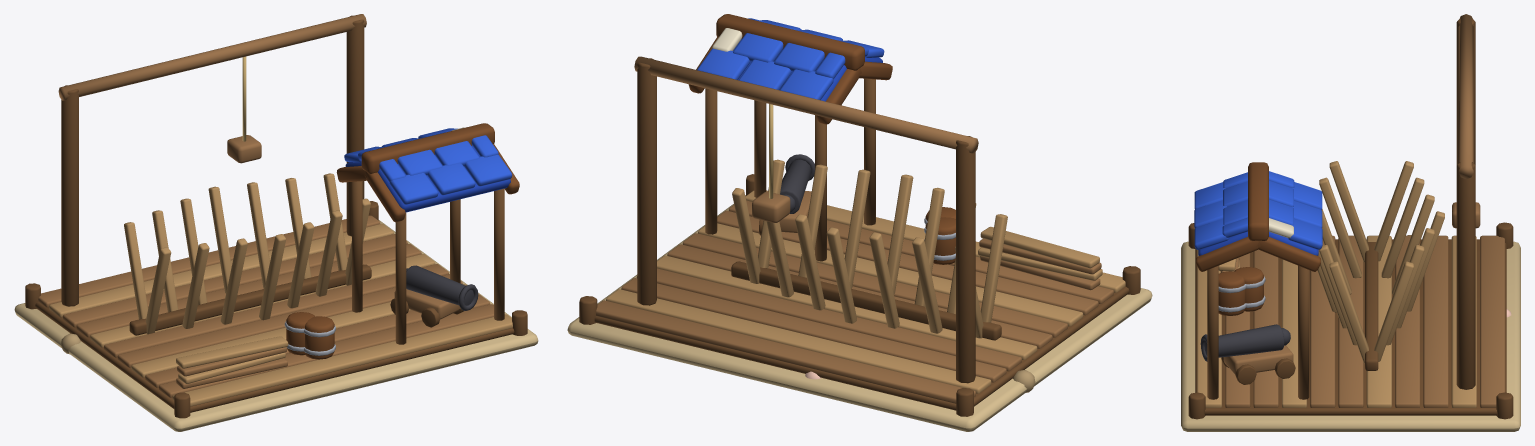
File: SiegeWorkshop.glb
3 renders of one model, left to right at view 1: azimuth 30°, elevation 25°; view 2: azimuth 150°, elevation 25°; view 3: azimuth 270°, elevation 25°, orthographic. The views are drawn at different scales.
Parts seen in each view (by area): view 1: SiegeWorkshop; view 2: SiegeWorkshop; view 3: SiegeWorkshop.
Boxes of the visible parts, <box> form: SiegeWorkshop: <box>14,14,538,431</box>; SiegeWorkshop: <box>567,14,1152,431</box>; SiegeWorkshop: <box>1181,14,1520,431</box>.
Size of the model in its own units: 4.63 by 2.93 by 3.6.
